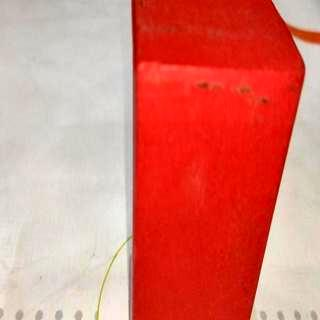redbox: (130, 0, 306, 320)
